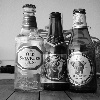beer: (69, 7, 98, 100)
